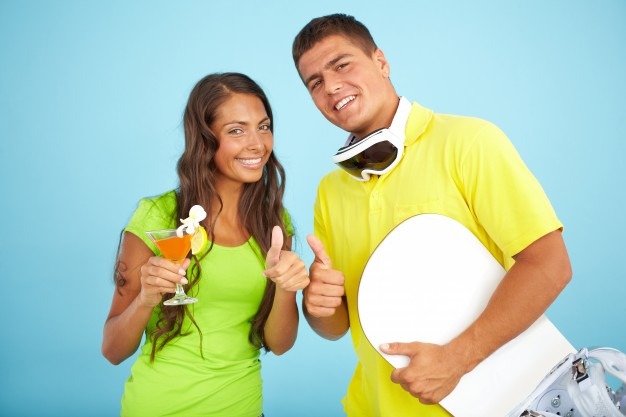thumbsup: (305, 235, 344, 317), (262, 225, 310, 291)
